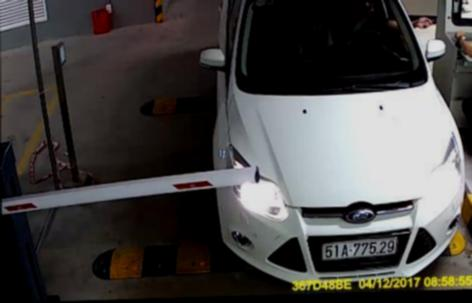License_Plate: (323, 238, 396, 260)
